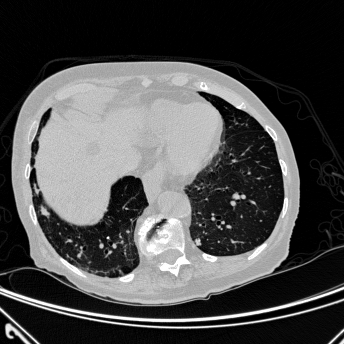nodule: (194, 238, 202, 246)
